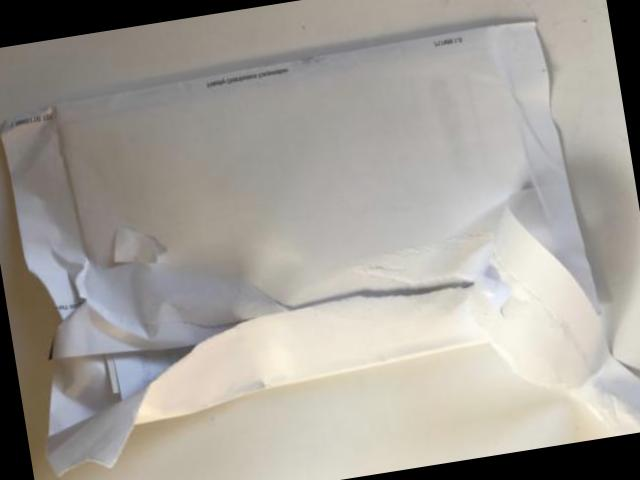cardboard paper: (3, 21, 607, 471)
